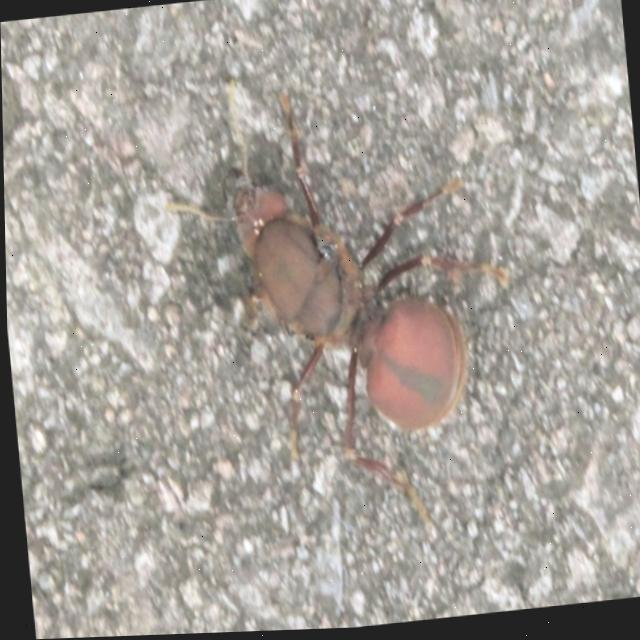Alive-Female-Dealate: (155, 68, 530, 572)
